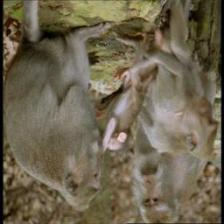monkey: (136, 154, 168, 213), (79, 134, 109, 195), (191, 86, 221, 138)
